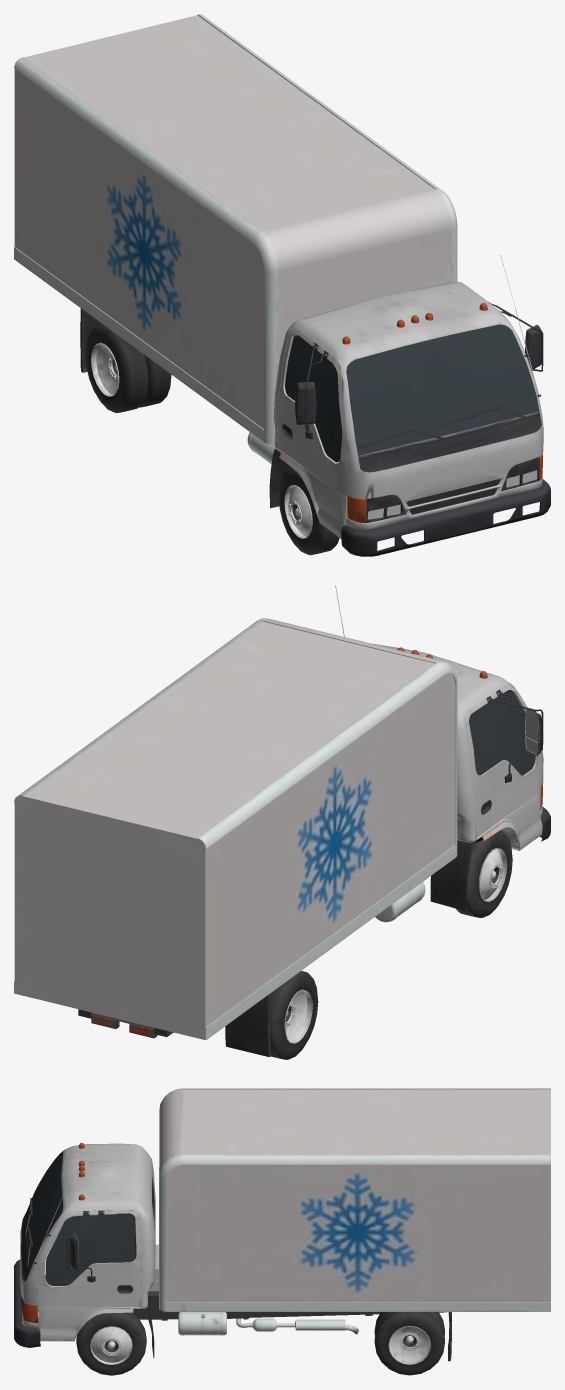
The model's file is box_truck.glb.
3 views of the same model, one above another, from view 1: azimuth 30°, elevation 25°; view 2: azimuth 150°, elevation 25°; view 3: azimuth 270°, elevation 25° (orthographic). The views are drawn at different scales.
Parts seen in each view (by area): view 1: Truck_TruckMt_0, Truck_glassmt_0; view 2: Truck_TruckMt_0, Truck_glassmt_0; view 3: Truck_TruckMt_0, Truck_glassmt_0.
Boxes of the visible parts, bbox=[...] form: Truck_TruckMt_0: bbox=[14, 14, 550, 556]; Truck_glassmt_0: bbox=[285, 324, 539, 462]; Truck_TruckMt_0: bbox=[14, 585, 550, 1059]; Truck_glassmt_0: bbox=[469, 690, 535, 775]; Truck_TruckMt_0: bbox=[14, 1088, 550, 1375]; Truck_glassmt_0: bbox=[27, 1151, 154, 1285].
Bounding box in the file's own units: 15.74 × 17.49 × 38.83.
2 materials, 1 textured.
